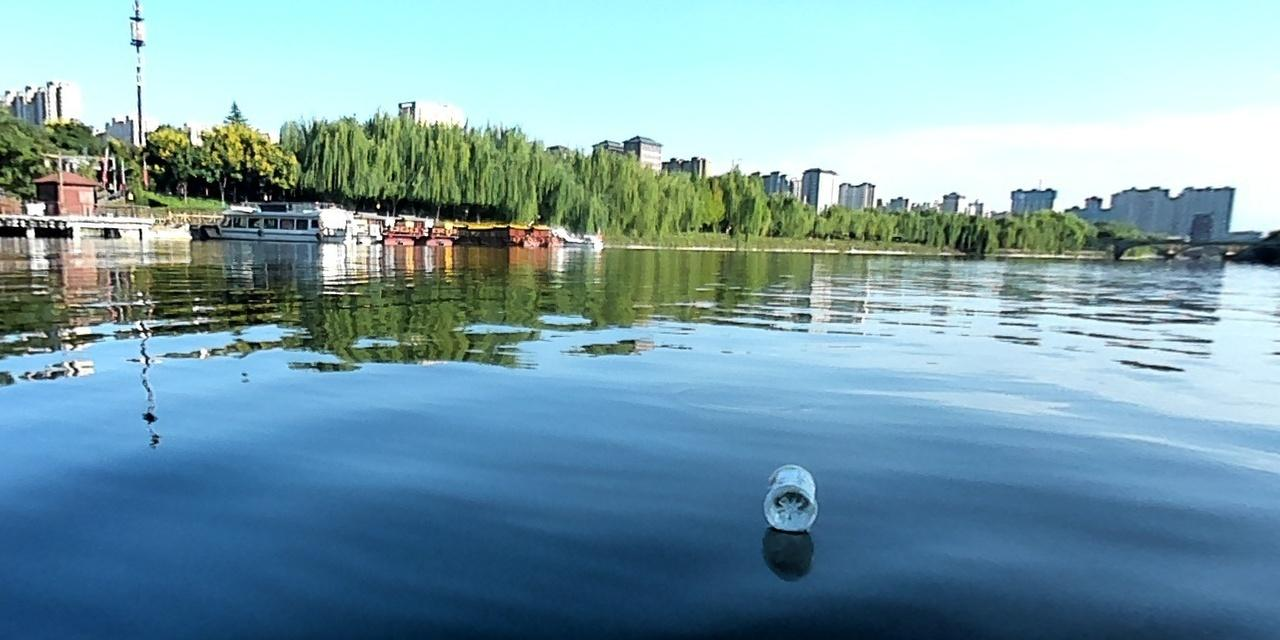bottle: (758, 456, 822, 535)
